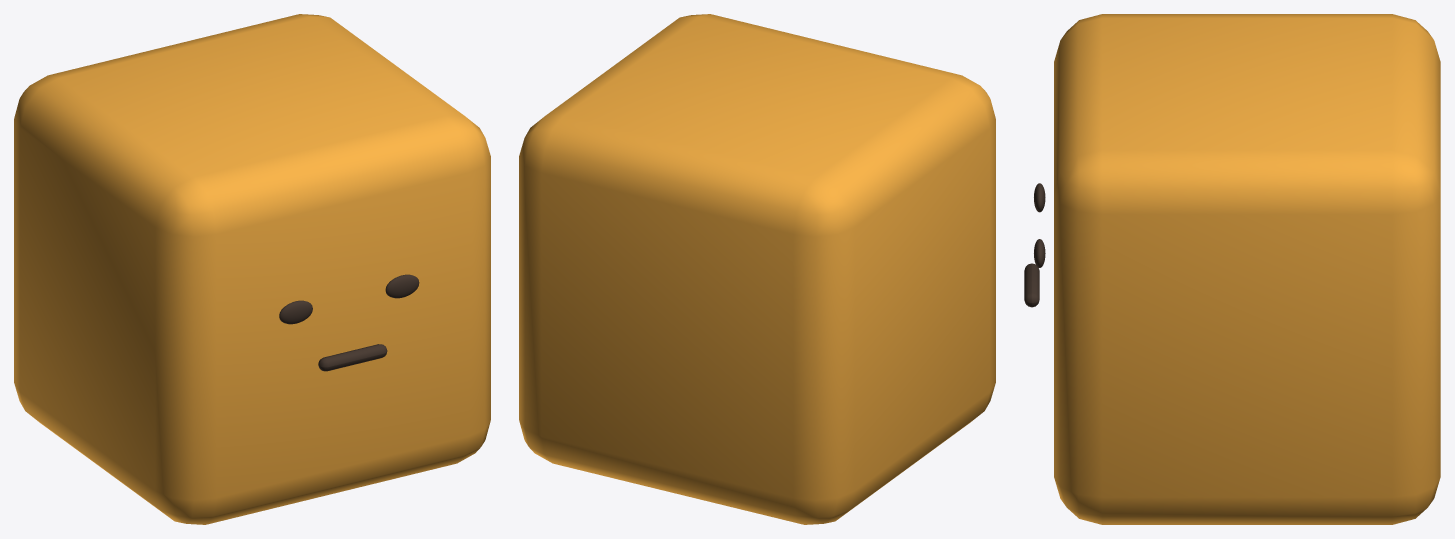
Rendered from butter_rice_cake.glb.
3 views of the same model, side by side, from view 1: azimuth 30°, elevation 25°; view 2: azimuth 150°, elevation 25°; view 3: azimuth 270°, elevation 25° (orthographic). The views are drawn at different scales.
Parts seen in each view (by area): view 1: wakppu_butter_rice_cake, mouth, eye, eye.001; view 2: wakppu_butter_rice_cake; view 3: wakppu_butter_rice_cake, mouth.
Boxes of the visible parts, x1=… form: wakppu_butter_rice_cake: x1=14, y1=14, x2=490, y2=524; mouth: x1=318, y1=344, x2=387, y2=371; eye: x1=279, y1=300, x2=312, y2=324; eye.001: x1=385, y1=274, x2=419, y2=298; wakppu_butter_rice_cake: x1=519, y1=14, x2=995, y2=524; wakppu_butter_rice_cake: x1=1054, y1=14, x2=1440, y2=524; mouth: x1=1024, y1=263, x2=1039, y2=307.
Bounding box in the file's own units: 1.86 × 1.86 × 1.9.
